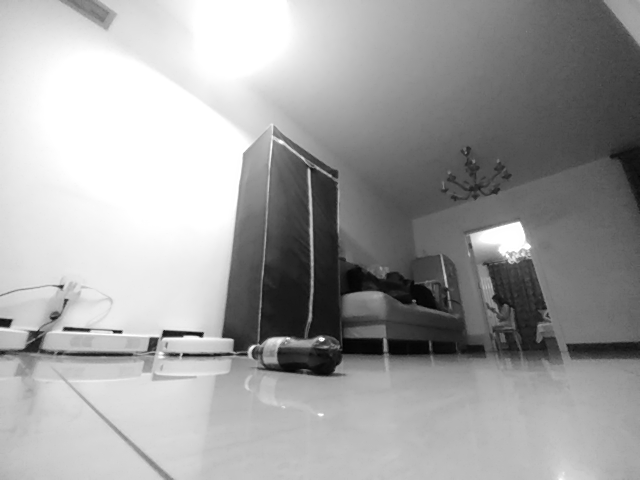curtain: (484, 259, 552, 348)
others: (246, 335, 342, 375)
